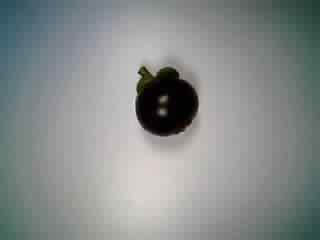mangosteen: (126, 63, 210, 137)
